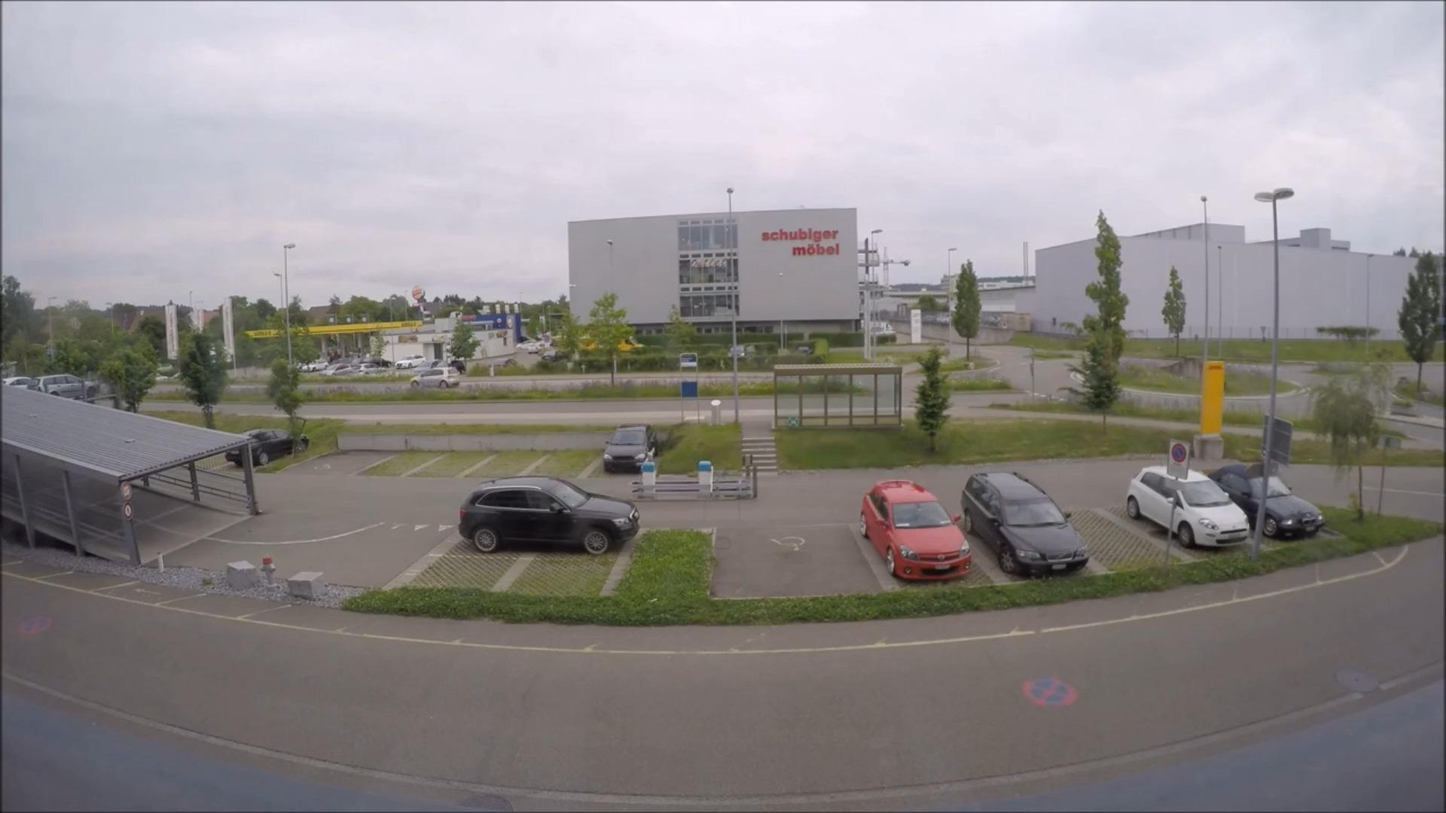occupied: (455, 475, 642, 556), (963, 469, 1092, 577), (867, 478, 974, 579), (1201, 463, 1319, 539), (224, 429, 308, 467), (601, 424, 659, 473), (31, 373, 94, 402), (410, 367, 463, 389), (395, 354, 430, 369), (357, 359, 394, 371), (297, 360, 328, 372), (2, 377, 33, 388)
